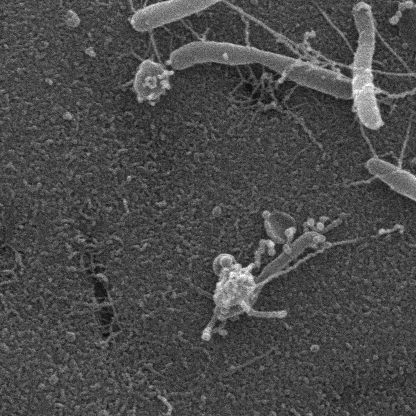cell2cell: (222, 0, 336, 73), (222, 1, 255, 51), (363, 124, 384, 163), (183, 21, 211, 44), (148, 30, 164, 62), (163, 0, 173, 4)
cell2surface: (372, 37, 416, 85), (377, 73, 416, 99), (258, 76, 289, 101), (398, 126, 416, 169), (345, 171, 386, 188), (234, 62, 258, 90), (114, 0, 141, 18), (0, 0, 6, 5)
filament: (172, 49, 356, 101), (353, 4, 386, 129)
regular: (133, 0, 228, 33), (133, 57, 169, 102)
